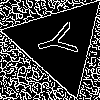Y: (33, 18, 89, 63)
